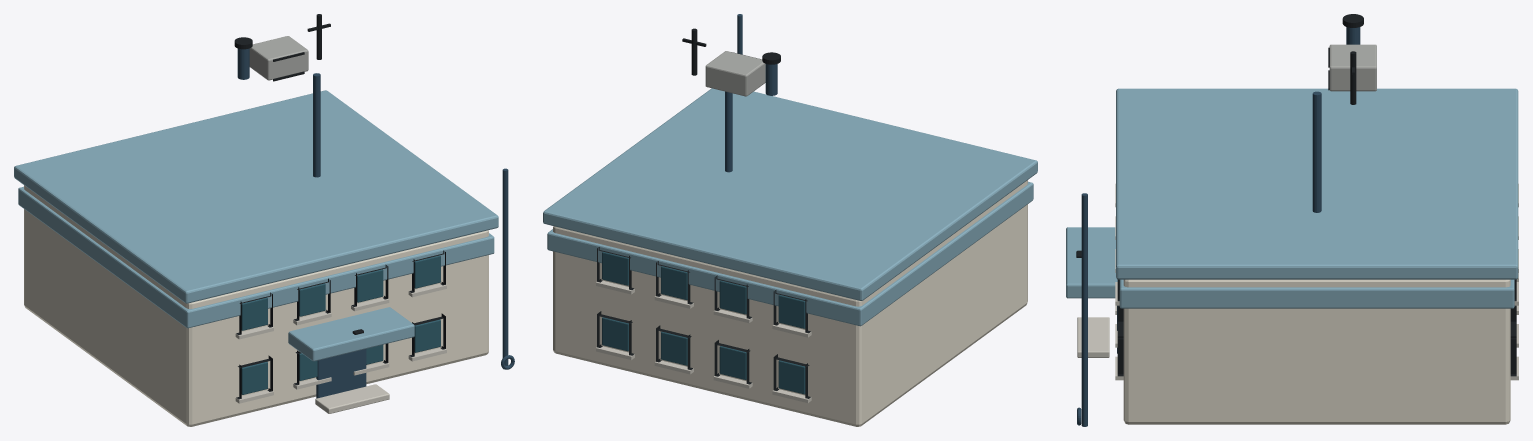
The model's file is CIV_POLICE_2x2_001.glb.
The picture shows the model from 3 angles, left to right: view 1: azimuth 30°, elevation 25°; view 2: azimuth 150°, elevation 25°; view 3: azimuth 270°, elevation 25°; orthographic projection. The views are drawn at different scales.
Visible parts, largest first — view 1: CIV_POLICE_2x2_001_Visual; view 2: CIV_POLICE_2x2_001_Visual; view 3: CIV_POLICE_2x2_001_Visual.
Part boxes in pixels (box(x1,y1,x2,y2)): CIV_POLICE_2x2_001_Visual: box(14, 14, 514, 426); CIV_POLICE_2x2_001_Visual: box(543, 14, 1037, 426); CIV_POLICE_2x2_001_Visual: box(1066, 14, 1518, 426).
Size of what is drawn, in the model's own units: 3.37 by 2.94 by 3.63.
